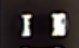COMP: (12, 8, 73, 42)
